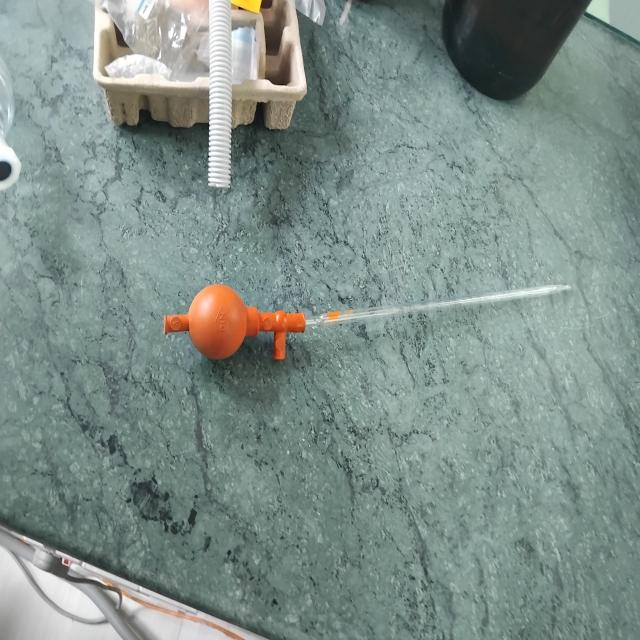Volumetric_Pipet: (148, 248, 598, 399)
